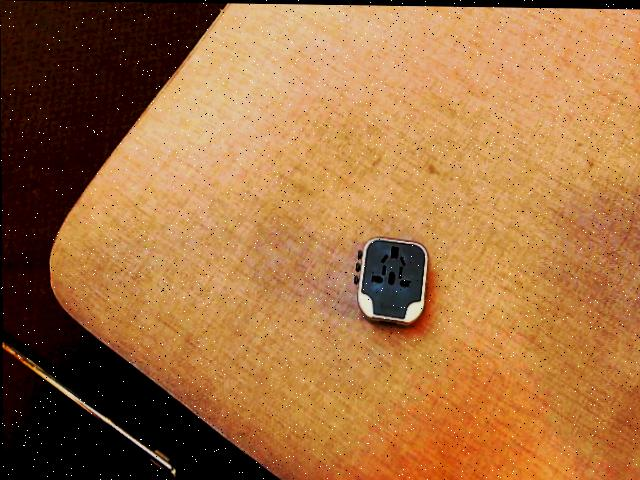adapter: (353, 235, 428, 324)
